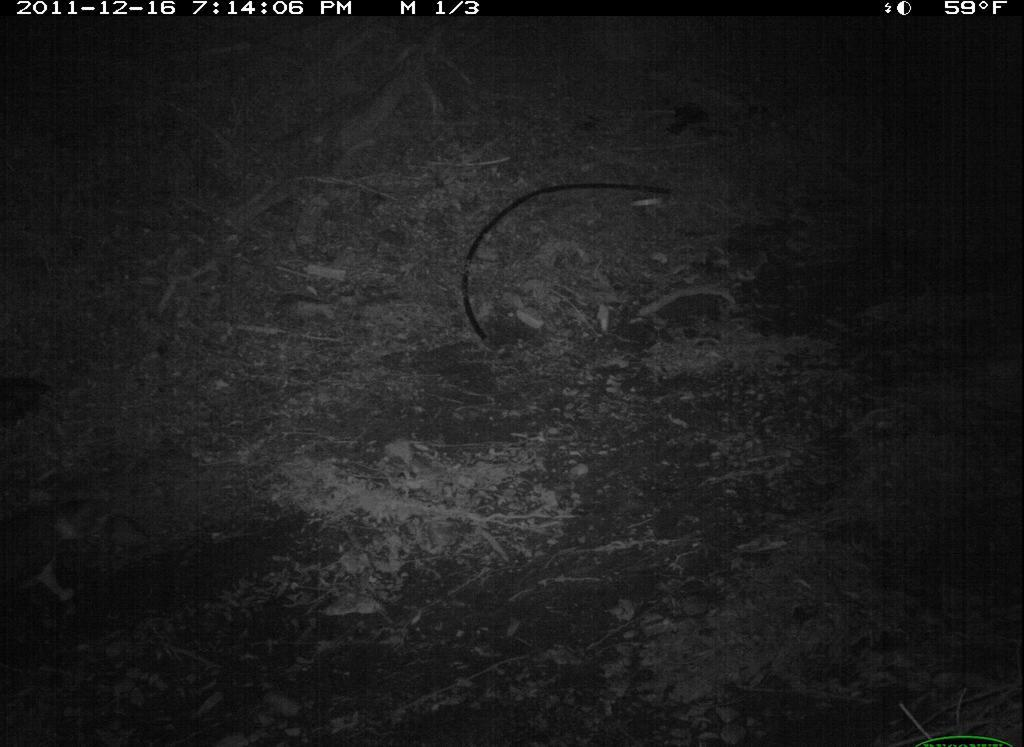cat: (3, 479, 134, 625)
